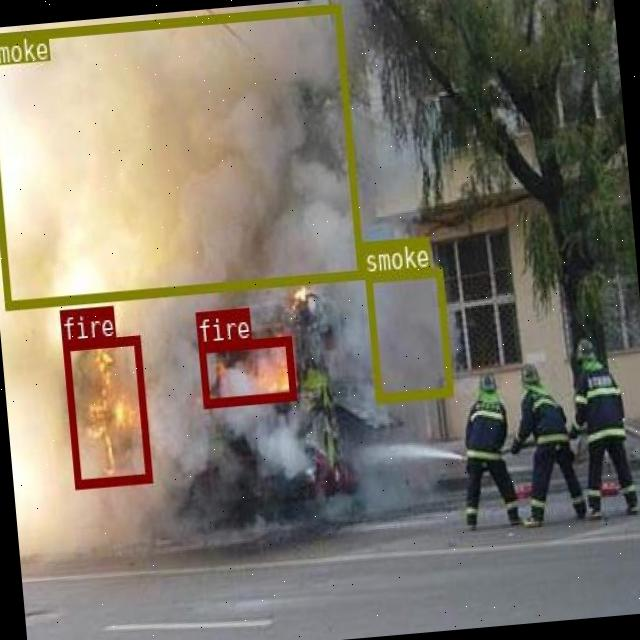fire: (62, 335, 150, 487), (197, 334, 296, 406)
smoke: (0, 3, 362, 308), (364, 266, 452, 402)
